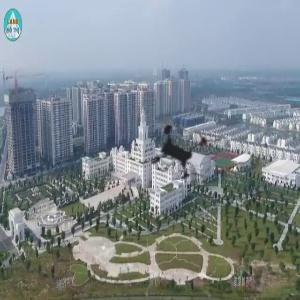drone: (111, 87, 250, 226)
